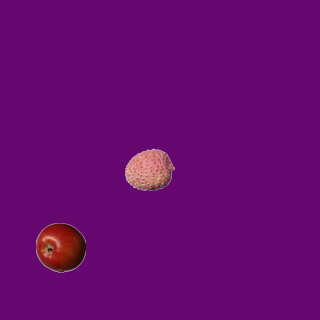Apple Braeburn: (35, 222, 85, 272)
Lychee: (124, 144, 174, 194)
